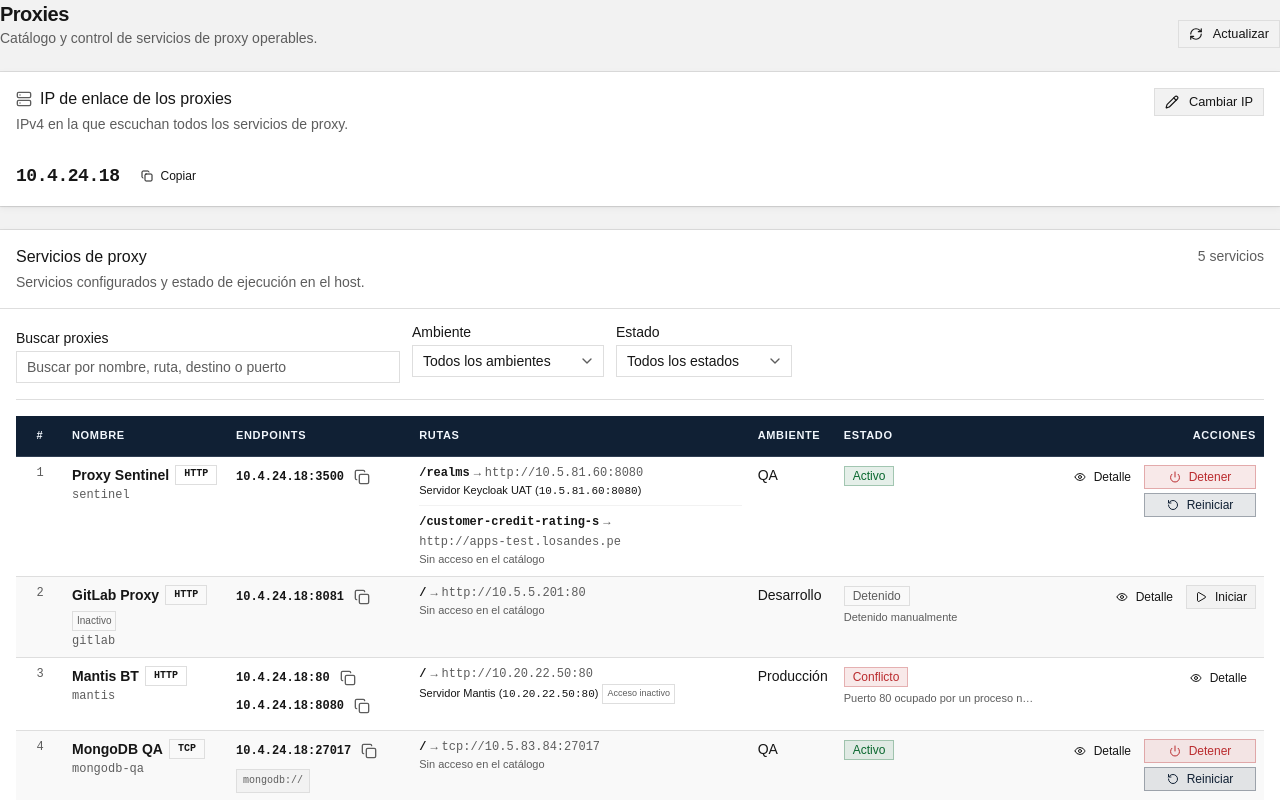
it: ProxiesPage › filtra servicios por ambiente y por estado
Check: the text "Proxy Sentinel" is shown, box [72,464,169,484]
Click the dropdown with test id "proxy-filter-environment".
click(508, 361)  # box [412,345,604,377]
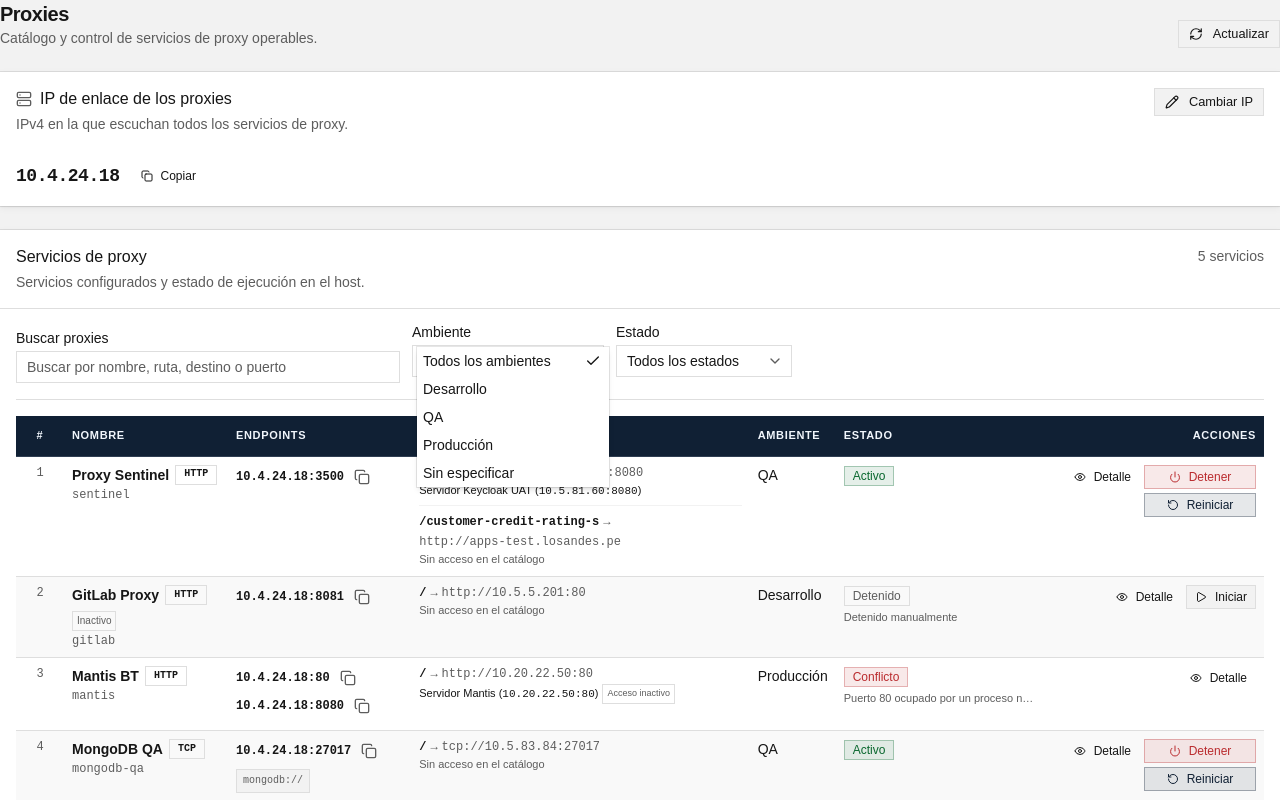
Click the option "Desarrollo".
click(455, 389)  # box [423,381,487,397]
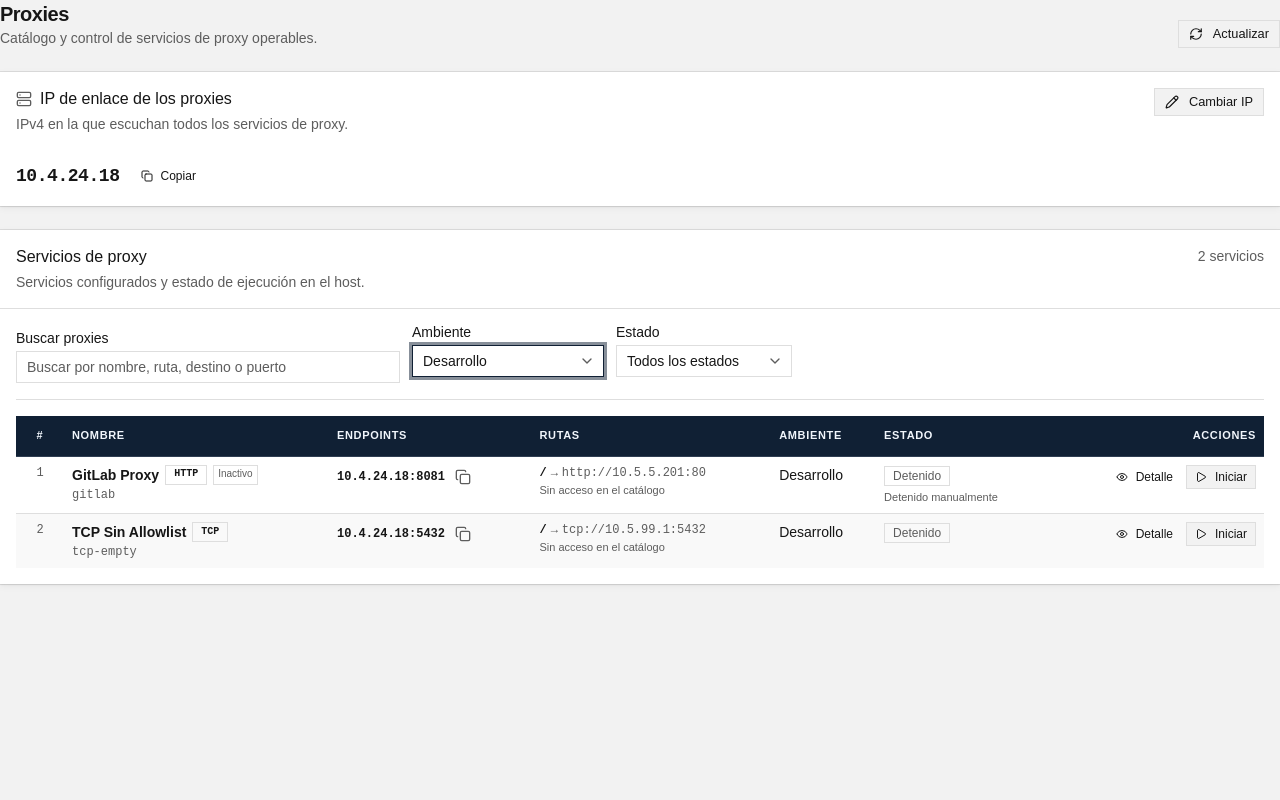
Check: the text "GitLab Proxy" is shown, box [72,464,159,484]
Check: the text "Proxy Sentinel" is gone
Click the dropdown with test id "proxy-filter-status".
click(704, 361)  # box [616,345,792,377]
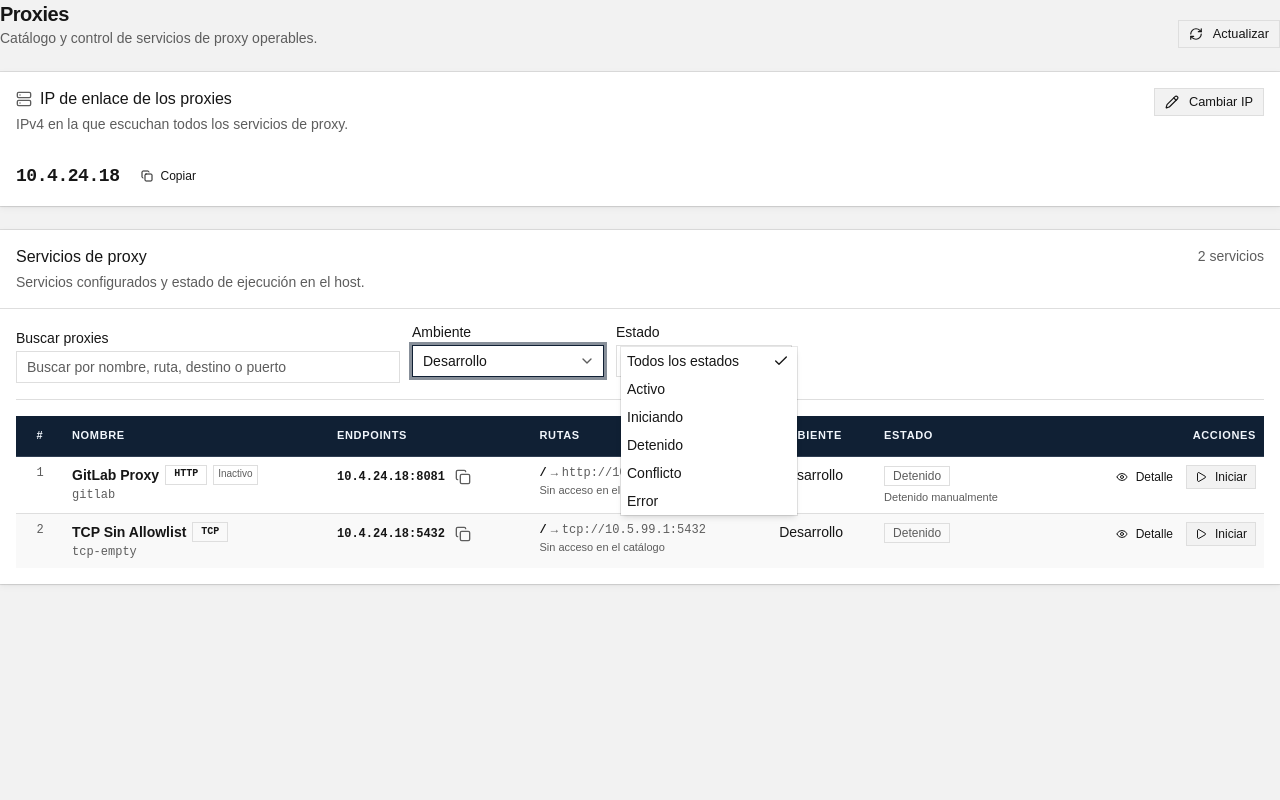
Click the option "Activo".
click(646, 389)  # box [627,381,665,397]
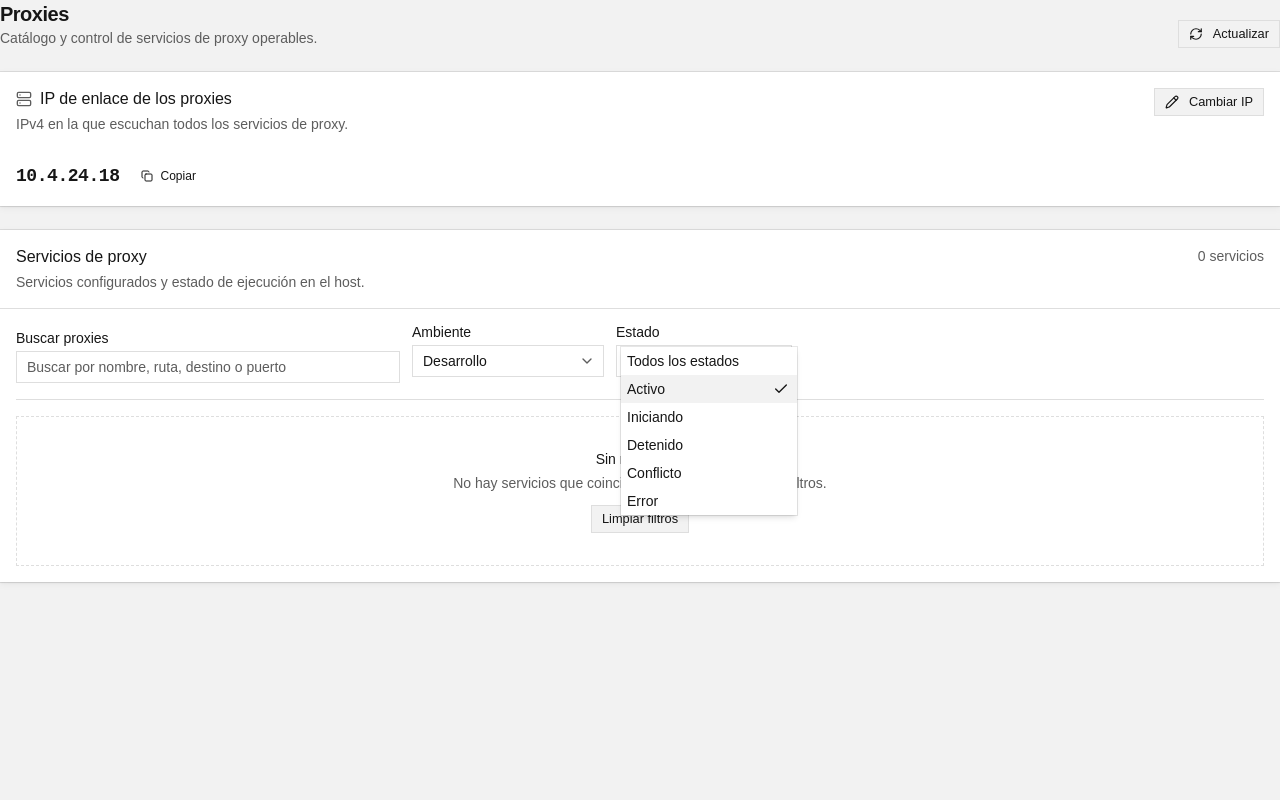
Check: the text "Sin resultados" is shown, box [596,451,684,467]
Click the button "Limpiar filtros".
click(640, 519)  # box [591,505,689,533]
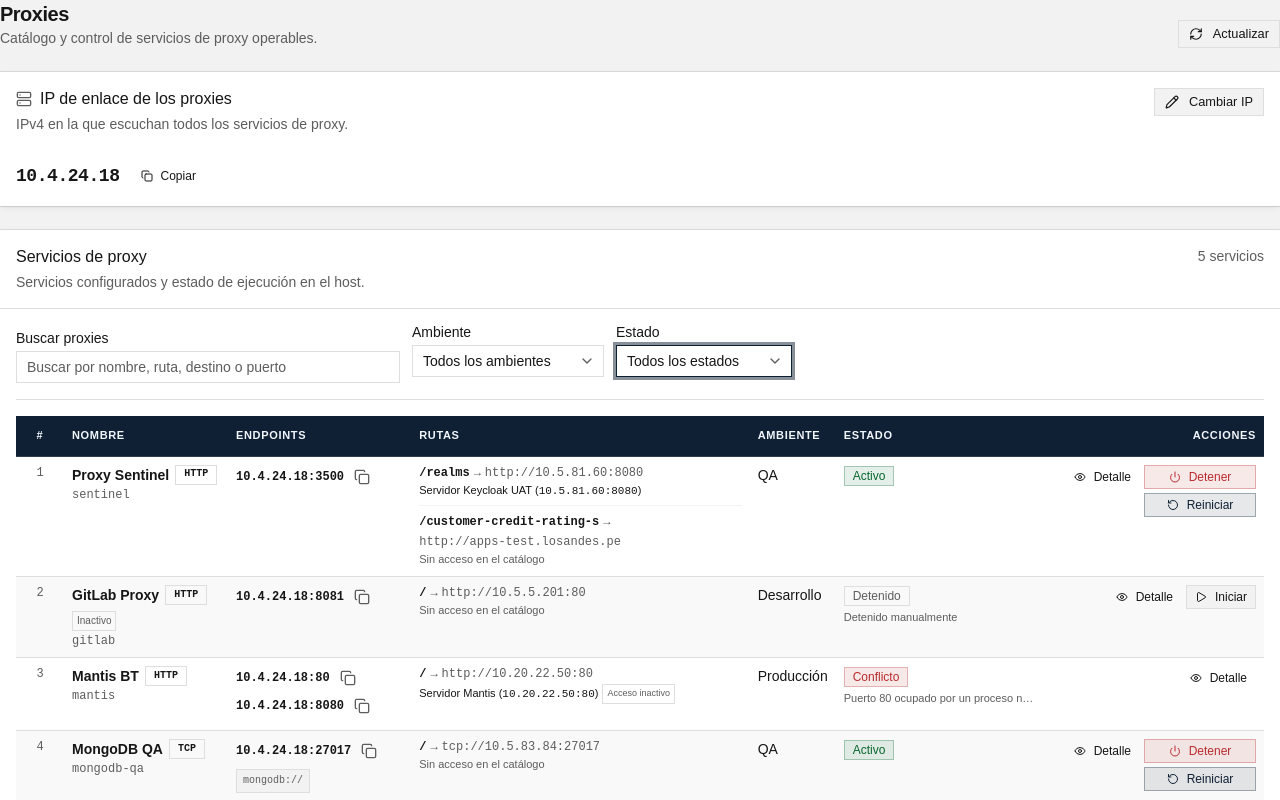
Check: the text "Proxy Sentinel" is shown, box [72,464,169,484]
